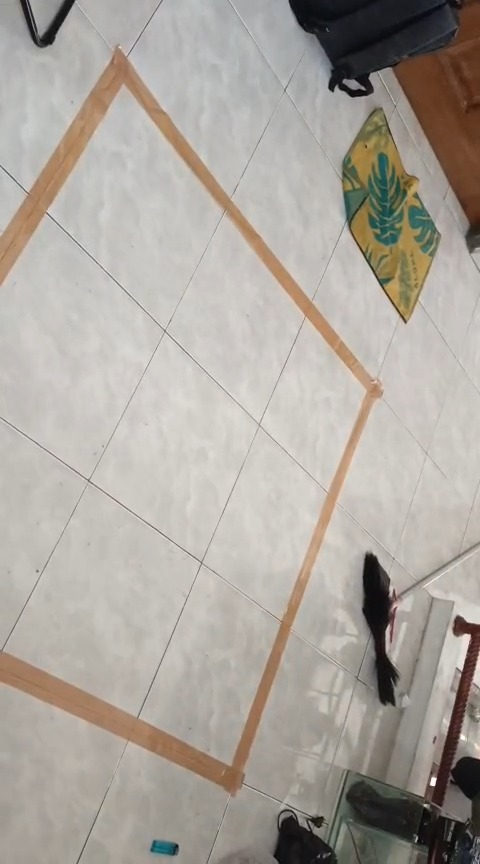floor marking: (0, 49, 381, 794)
